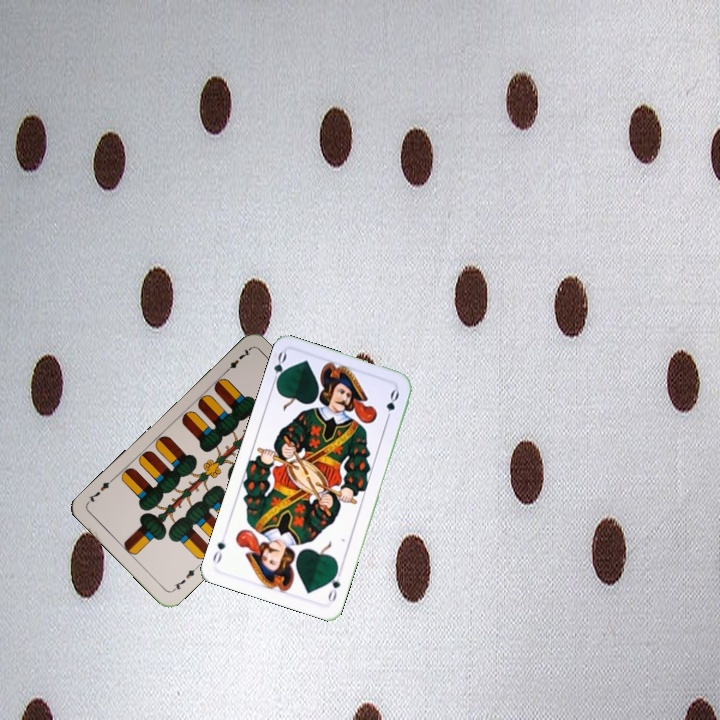E7: (168, 562, 201, 594), (220, 345, 253, 377)
GO: (268, 348, 290, 389), (324, 565, 343, 604)
